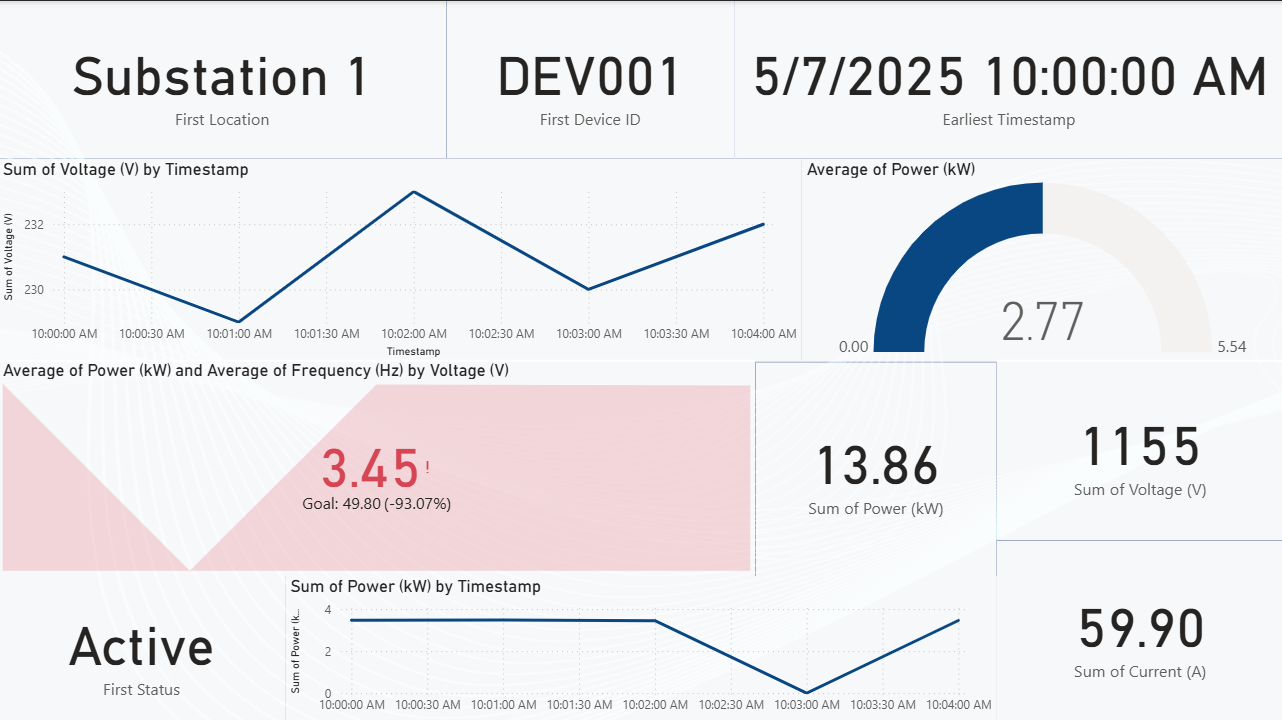

The page's visual inventory and layout, read from the dashboard file:
{"tool":"powerbi","page":{"name":"Dashboard","canvas":[1280,720],"ordinal":0},"visuals":[{"type":"lineChart","fields":{"Category":["Sheet1.Timestamp"],"Y":["Sum(Sheet1.Voltage (V))"]},"box":[0,156.7,799.9,202.8],"z":0},{"type":"lineChart","fields":{"Category":["Sheet1.Timestamp"],"Y":["Sum(Sheet1.Power (kW))"]},"box":[286.1,572.2,707.8,146.8],"z":1},{"type":"gauge","fields":{"Y":["Avg(Sheet1.Power (kW))"]},"box":[799.9,156.7,480.2,202.8],"z":2},{"type":"card","fields":{"Values":["Sum(Sheet1.Voltage (V))"]},"box":[993.9,357,286.1,180.4],"z":3},{"type":"kpi","fields":{"Indicator":["Avg(Sheet1.Power (kW))"],"Goal":["Avg(Sheet1.Frequency (Hz))"],"TrendLine":["Sheet1.Voltage (V)"]},"box":[0,357,753.8,215.2],"z":4},{"type":"card","fields":{"Values":["Min(Sheet1.Location)"]},"box":[0,0,316,156.7],"z":5},{"type":"card","fields":{"Values":["Min(Sheet1.Device ID)"]},"box":[316,0,215.2,156.7],"z":7},{"type":"card","fields":{"Values":["Min(Sheet1.Timestamp)"]},"box":[1005.1,0,274.9,156.7],"z":9},{"type":"card","fields":{"Values":["Sum(Sheet1.Power (kW))"]},"box":[753.8,359.5,240.1,212.7],"z":10},{"type":"card","fields":{"Values":["Sum(Sheet1.Current (A))"]},"box":[993.9,537.4,286.1,181.6],"z":11},{"type":"card","fields":{"Values":["Min(Sheet1.Status)"]},"box":[0,572.2,286.1,146.8],"z":12},{"type":"textbox","box":[531.2,0,473.9,156.7],"z":13},{"type":"textbox","box":[1267.6,330.9,12.4,12.4],"z":14}]}

Visuals, with their boxes in screenshot pixels (x1, y1, x2, y2), scaled from the page's 1280x720 canvas onto the 1282x720 screenshot:
lineChart - Sheet1.Timestamp x Sum(Sheet1.Voltage (V)): box=[0, 157, 801, 360]
lineChart - Sheet1.Timestamp x Sum(Sheet1.Power (kW)): box=[287, 572, 995, 719]
gauge - Avg(Sheet1.Power (kW)): box=[801, 157, 1281, 360]
card - Sum(Sheet1.Voltage (V)): box=[995, 357, 1281, 537]
kpi - Avg(Sheet1.Power (kW)) x Avg(Sheet1.Frequency (Hz)): box=[0, 357, 755, 572]
card - Min(Sheet1.Location): box=[0, 0, 316, 157]
card - Min(Sheet1.Device ID): box=[316, 0, 532, 157]
card - Min(Sheet1.Timestamp): box=[1007, 0, 1281, 157]
card - Sum(Sheet1.Power (kW)): box=[755, 360, 995, 572]
card - Sum(Sheet1.Current (A)): box=[995, 537, 1281, 719]
card - Min(Sheet1.Status): box=[0, 572, 287, 719]
textbox: box=[532, 0, 1007, 157]
textbox: box=[1270, 331, 1281, 343]
